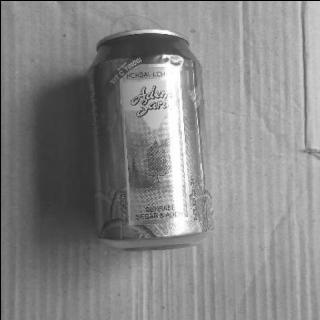alumunium_can: (80, 11, 240, 269)
